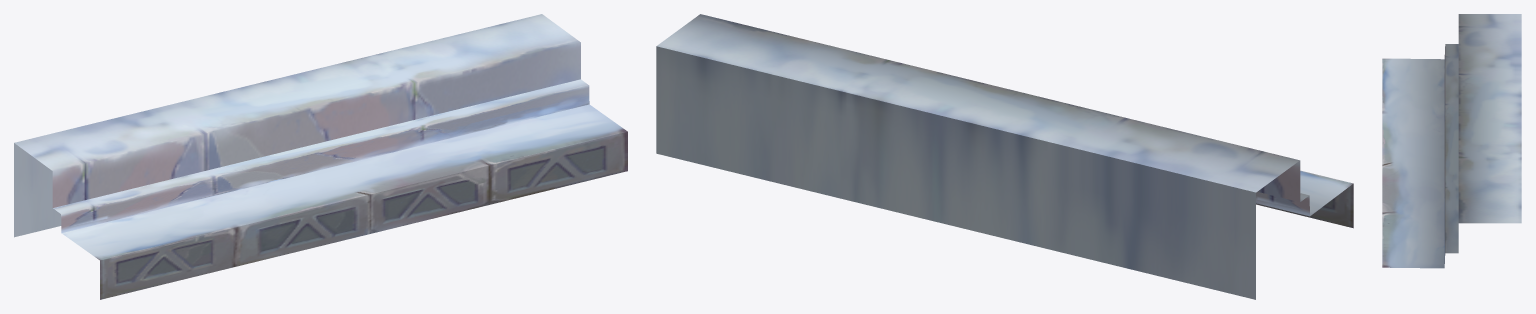
The model's file is Map_10_side01.FBX.
3 views of the same model, side by side, from view 1: azimuth 30°, elevation 25°; view 2: azimuth 150°, elevation 25°; view 3: azimuth 270°, elevation 25° (orthographic). The views are drawn at different scales.
Parts seen in each view (by area): view 1: Map_10_side01; view 2: Map_10_side01; view 3: Map_10_side01.
Part boxes in pixels (left/top/right/bottom): Map_10_side01: left=14, top=14, right=627, bottom=299; Map_10_side01: left=656, top=14, right=1353, bottom=299; Map_10_side01: left=1382, top=14, right=1521, bottom=268.
Size of the model in its own units: 283 by 48.41 by 79.68.
